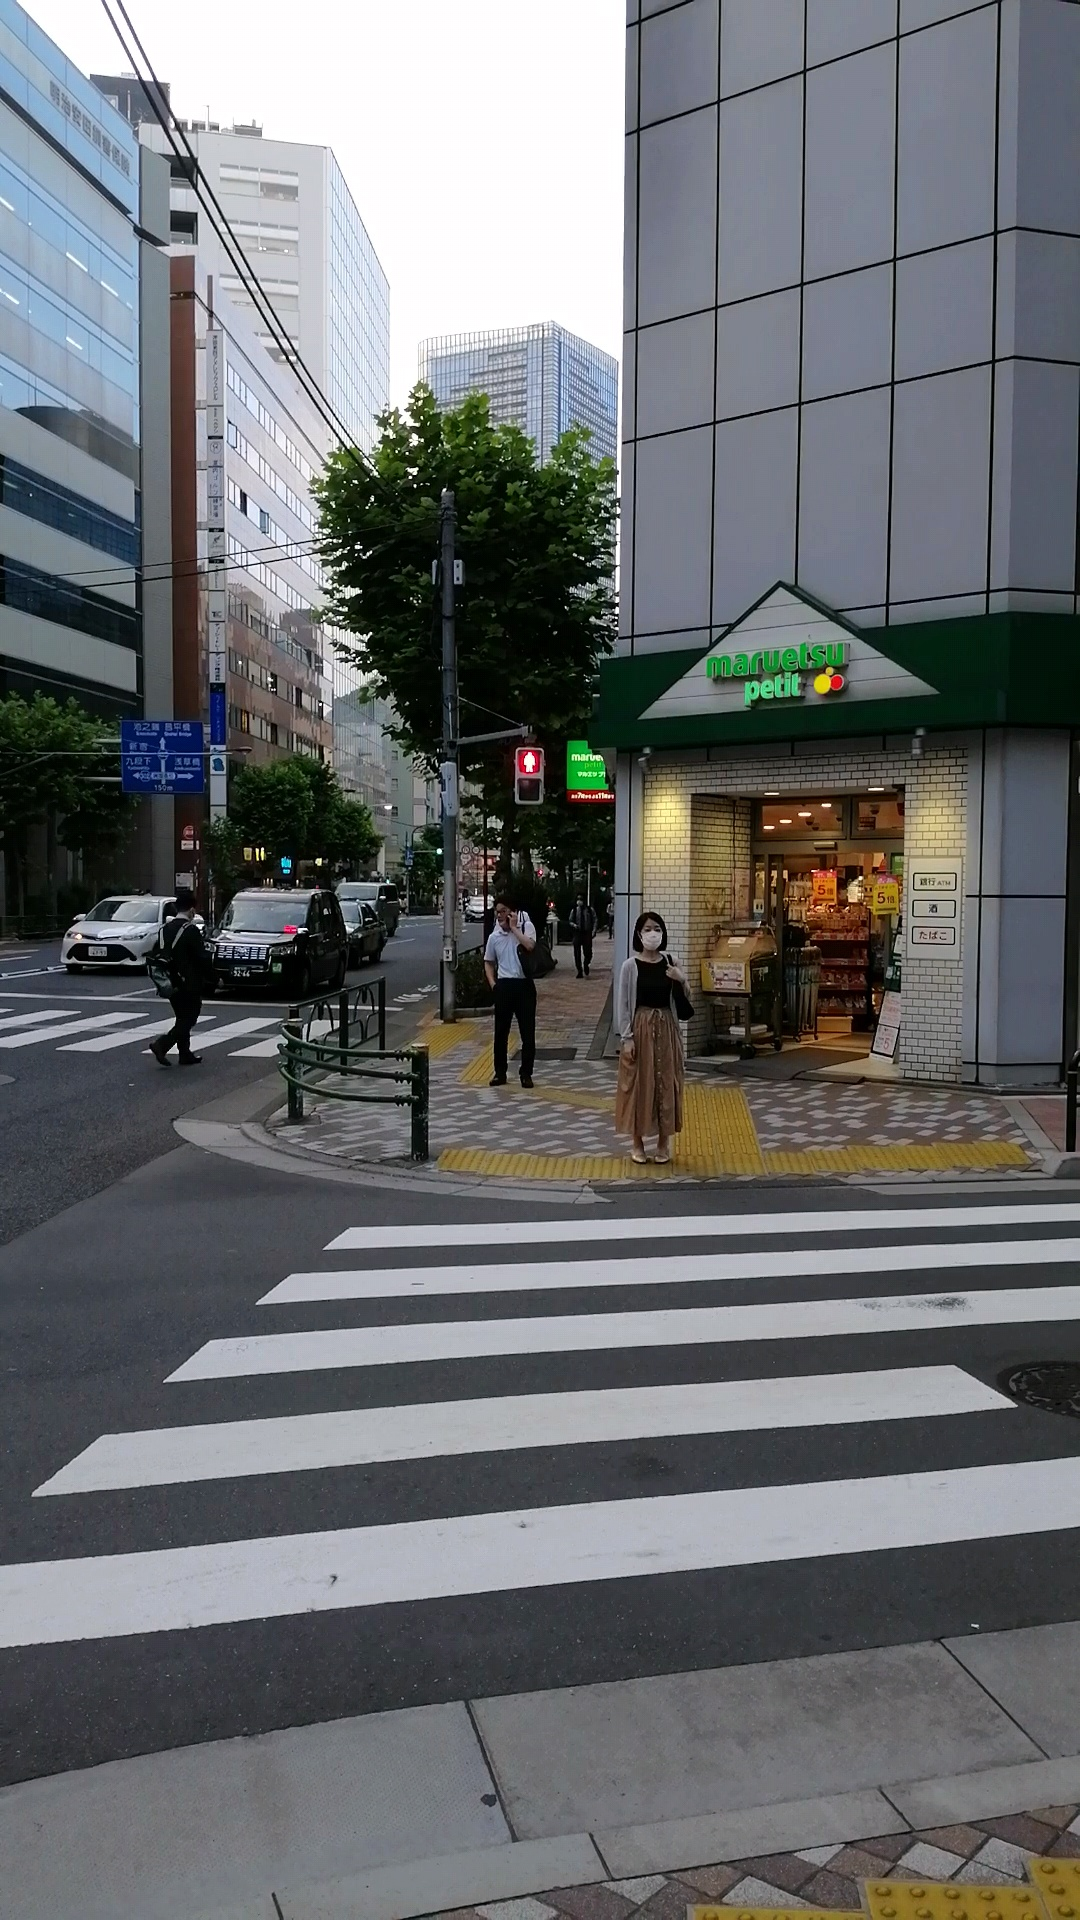red: (512, 744, 545, 804)
